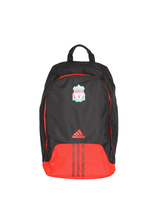bag: (31, 43, 124, 184)
